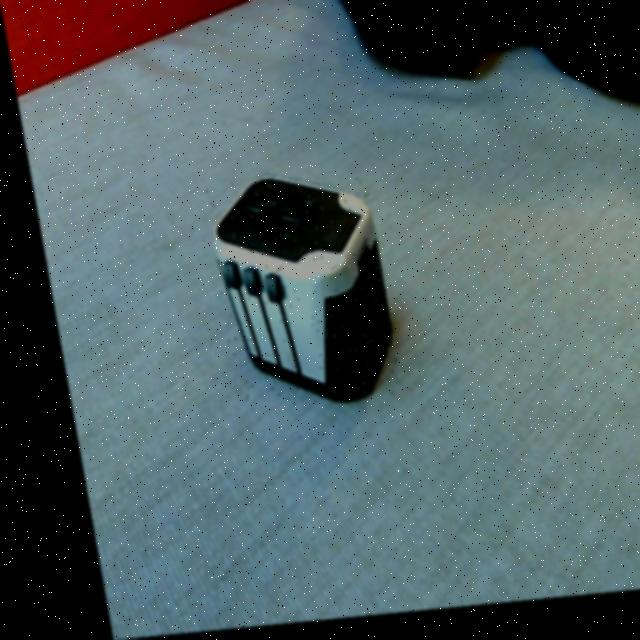adapter: (193, 172, 390, 415)
